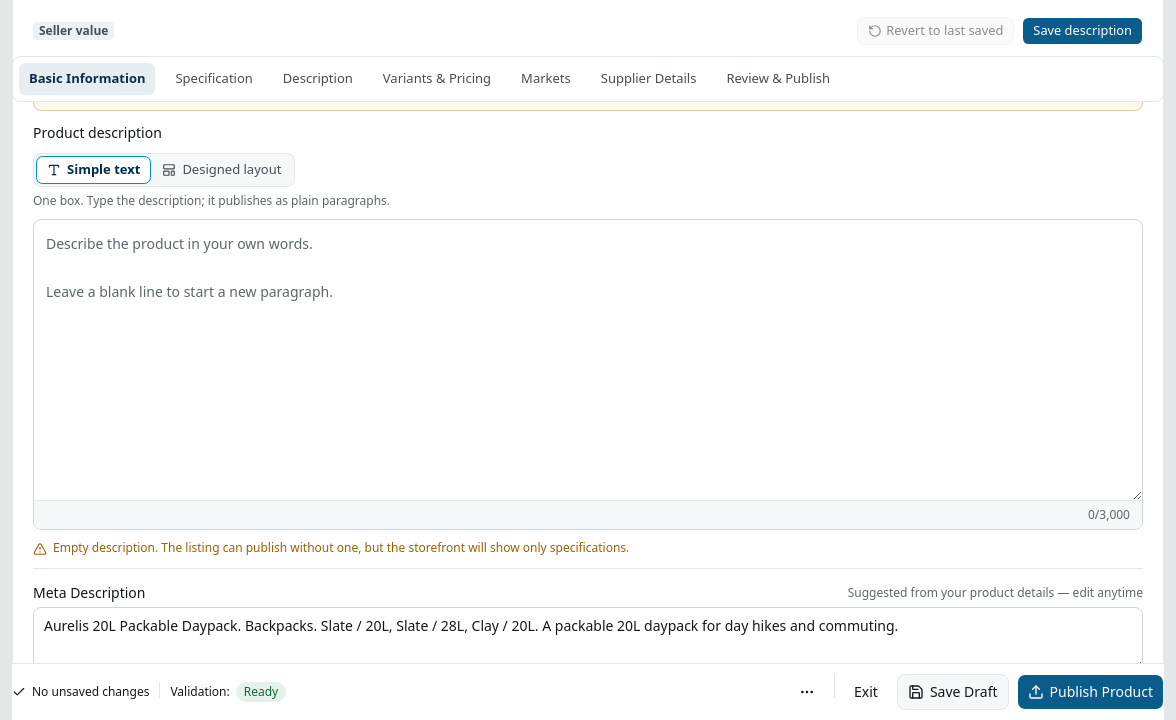
Test: Product editor - telling the seller a save landed › saves the description from its own section, in both modes
(page scrolled)
Replace the text in the text box named "Product description" with "Soft cotton twill." at (588, 360), box [34,220,1142,500]
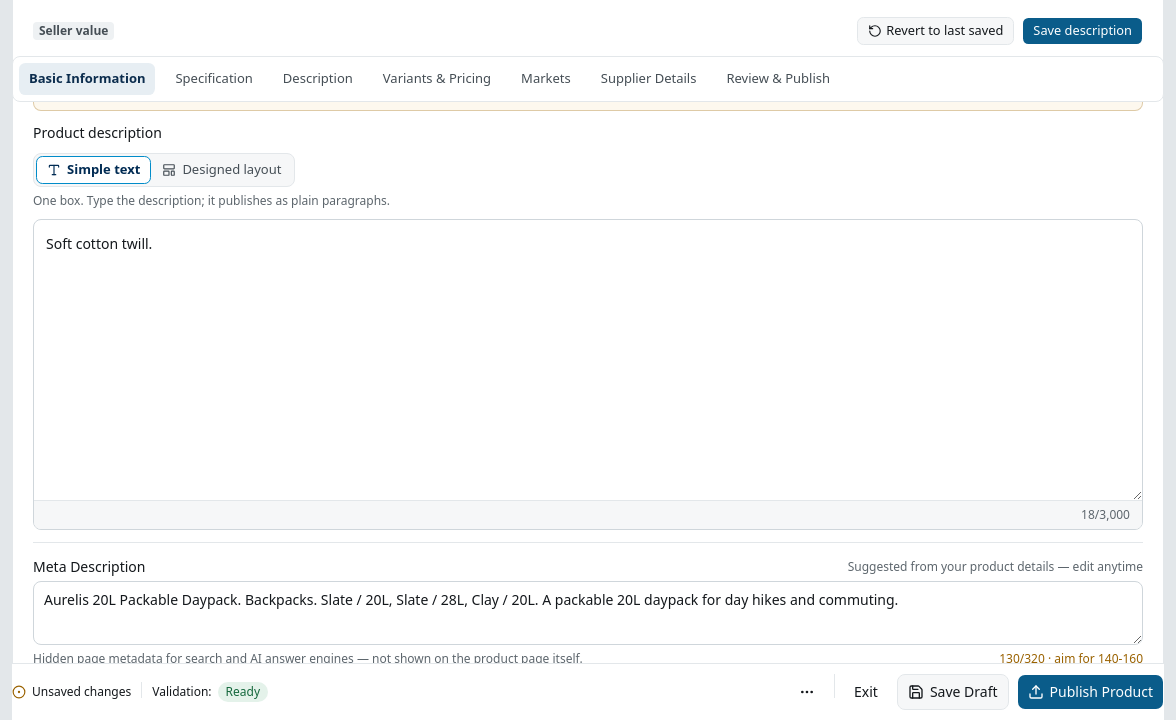
Click the button "Save description" at (1083, 31), box [1022,17,1143,45]
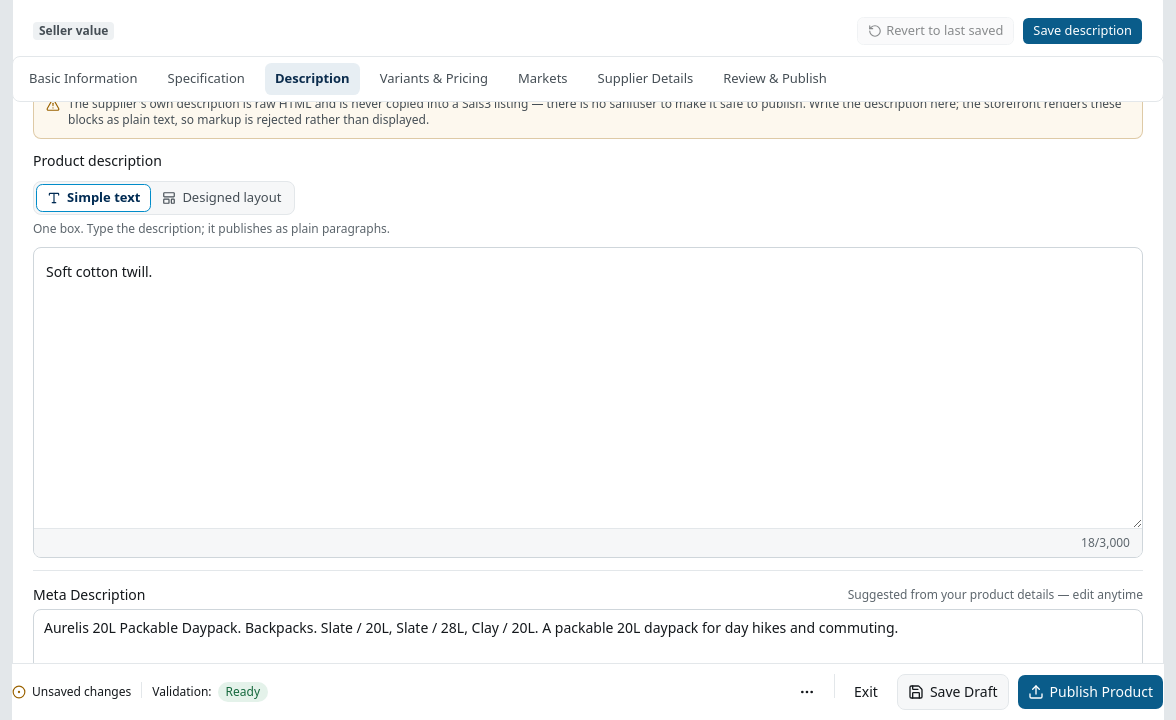
Expected: the text "Description saved." is shown, [33,56,137,73]
